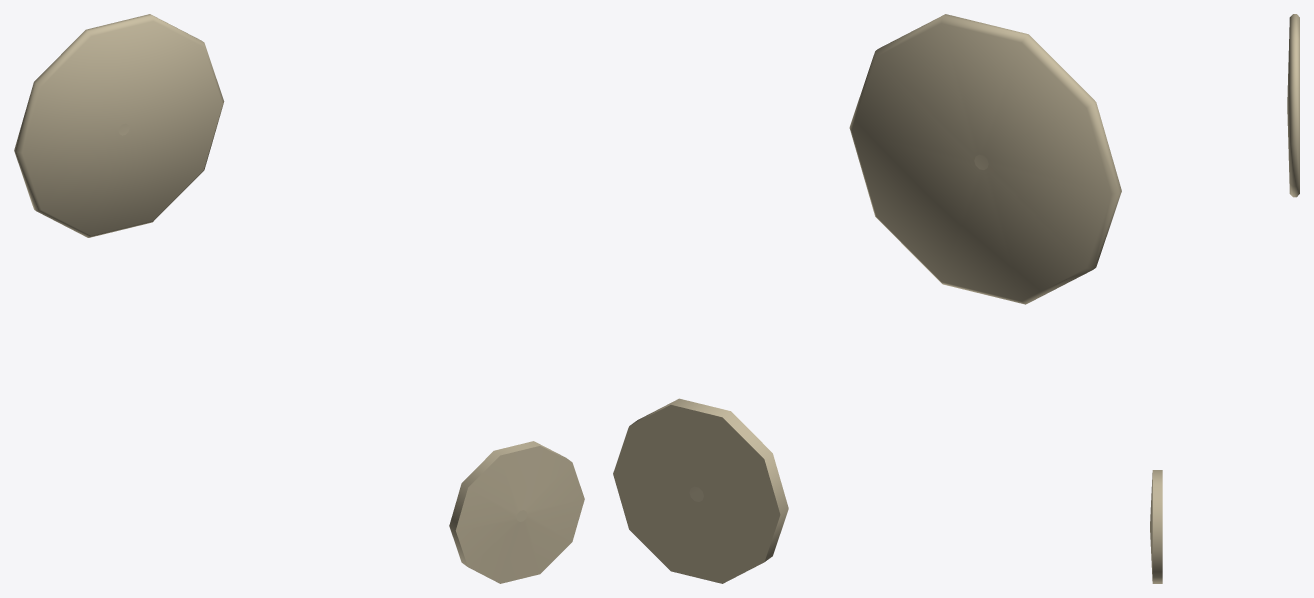
File: lift_platform_glass.glb
3 views of the same model, side by side, from view 1: azimuth 30°, elevation 25°; view 2: azimuth 150°, elevation 25°; view 3: azimuth 270°, elevation 25° (orthographic). The views are drawn at different scales.
Parts seen in each view (by area): view 1: Faces; view 2: Faces; view 3: Faces.
Boxes of the visible parts, box(x1,y1,x2,y2) form: Faces: box(14, 14, 584, 583); Faces: box(613, 14, 1121, 583); Faces: box(1150, 14, 1299, 583).
Size of the model in its own units: 1.7 by 1.92 by 0.6.
